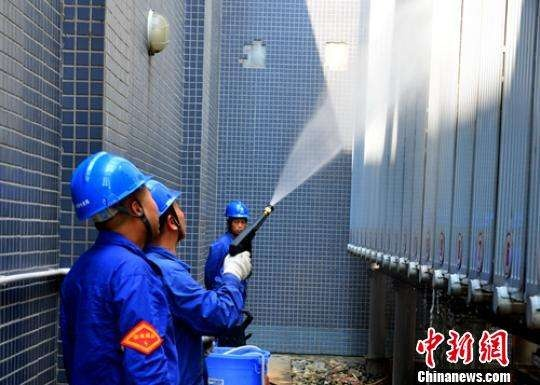blue: (68, 149, 160, 256), (144, 177, 189, 246), (223, 199, 250, 237)
